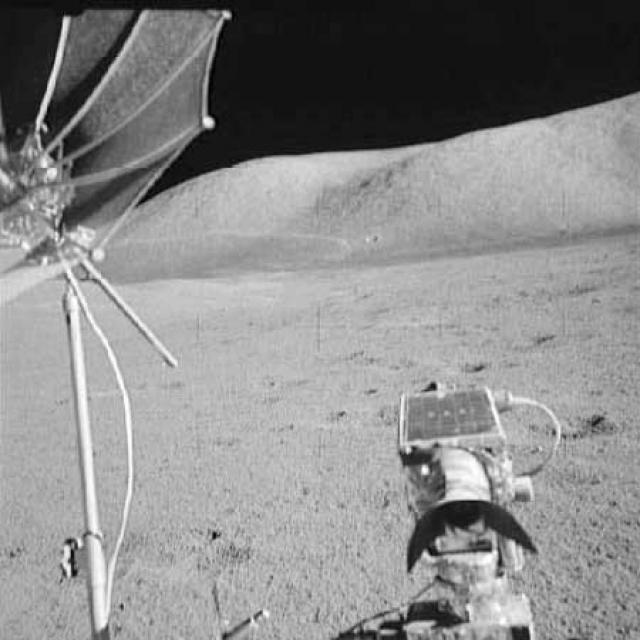artifact: (1, 0, 228, 634), (337, 371, 573, 639)
crater: (494, 329, 598, 353), (537, 410, 620, 437)
